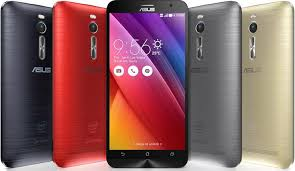asus: (103, 1, 187, 170), (237, 1, 295, 171), (184, 1, 241, 171), (51, 1, 107, 169), (1, 1, 56, 169)
